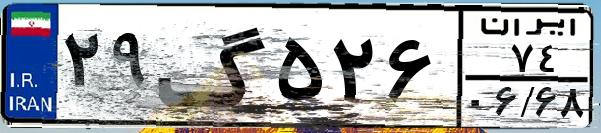0: (470, 70, 495, 125)
2: (330, 28, 385, 110), (57, 26, 110, 100)
4: (537, 27, 568, 80)
5: (270, 28, 330, 110)
6: (385, 28, 445, 110), (495, 70, 520, 125), (535, 70, 560, 125)
7: (508, 27, 537, 80)
8: (560, 70, 590, 125)
9: (110, 28, 156, 98)
گ: (156, 12, 270, 120)
